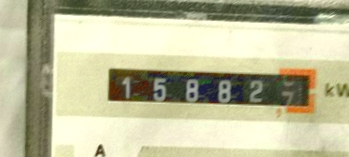1: (120, 73, 134, 102)
2: (247, 79, 265, 106)
5: (151, 76, 169, 107)
7: (280, 89, 294, 107)
8: (183, 77, 200, 106), (216, 78, 233, 106)
screen: (96, 53, 324, 123)
